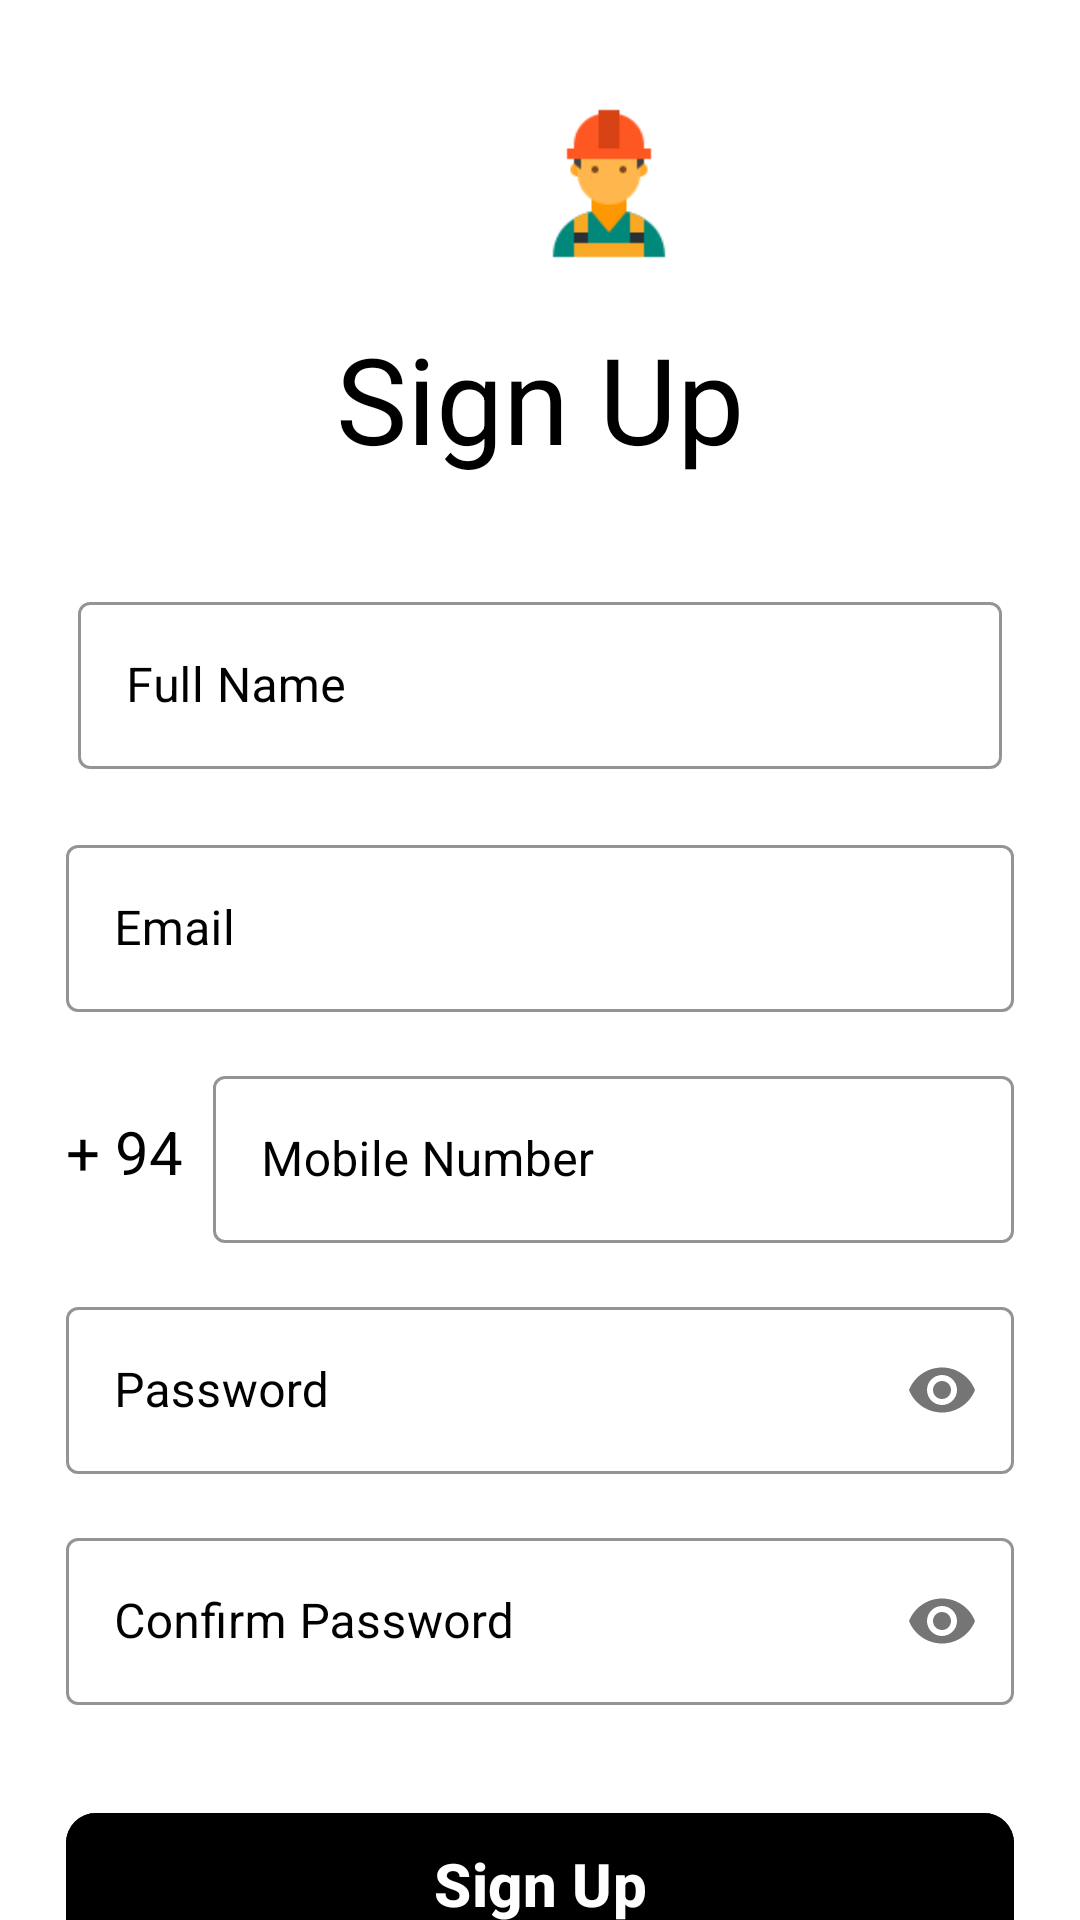

Screen size 1080x1920. Icon name, then its box in pixels as (x1, y1, x2, y2):
appicon: (552, 109, 666, 258)
